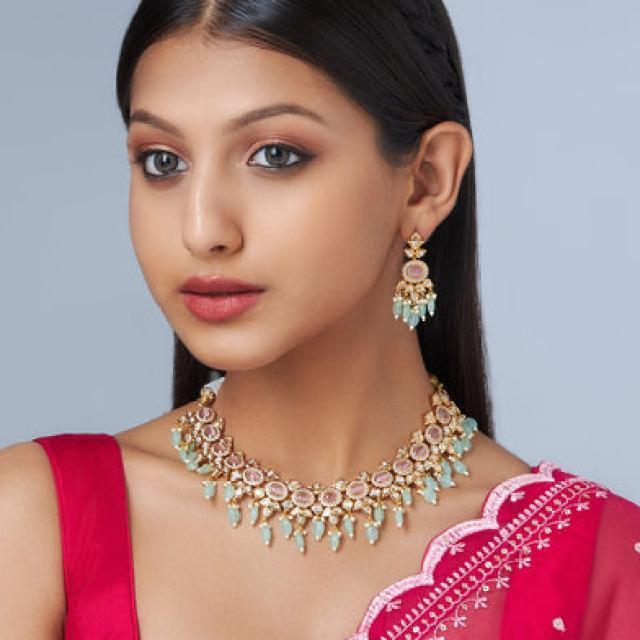Earring: (383, 218, 449, 342)
